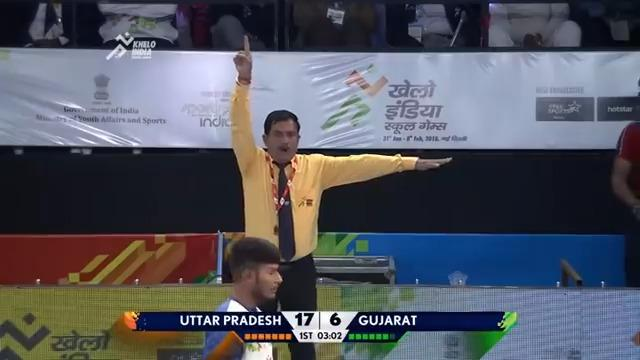Player: (201, 236, 290, 359)
referee: (226, 36, 454, 358), (609, 77, 639, 346), (609, 119, 639, 221)
